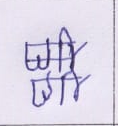i_matra: (59, 27, 87, 100)
